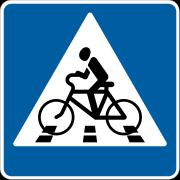Cycle Crossing: (7, 10, 170, 165)
